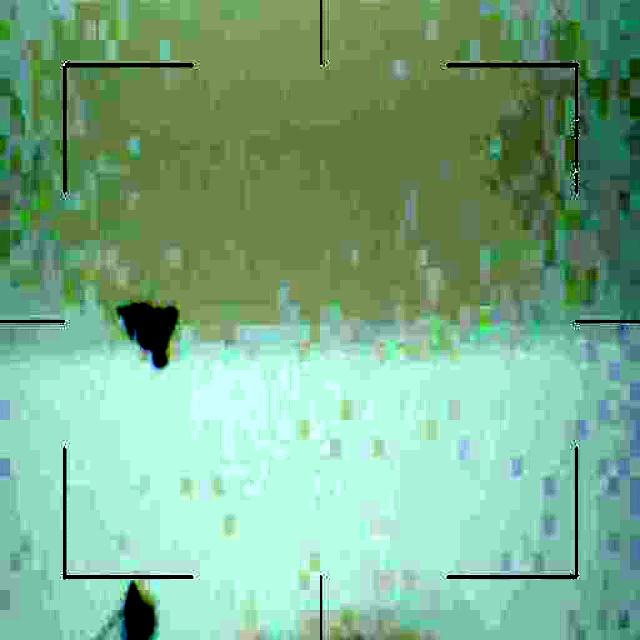bird: (120, 300, 184, 369)
